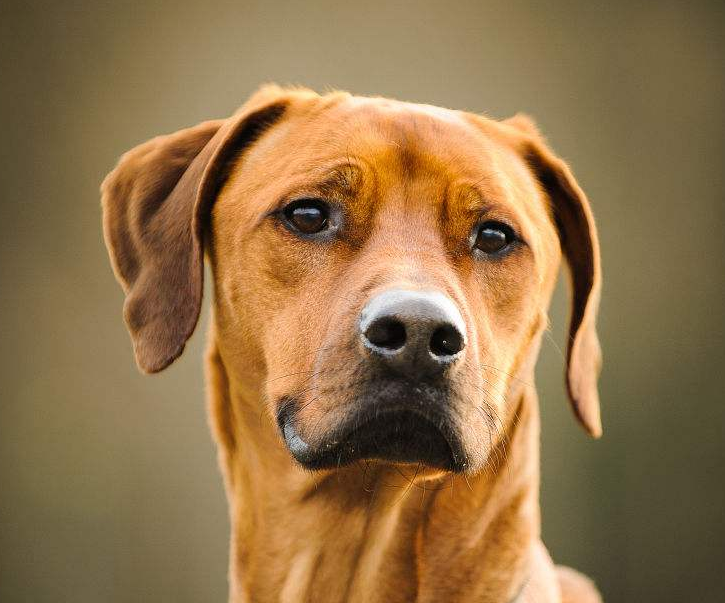nose: (355, 280, 479, 387)
